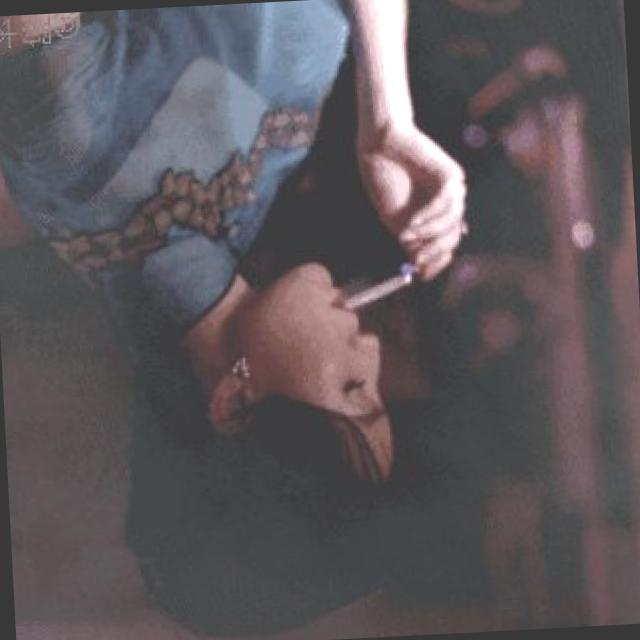cigarette: (337, 270, 413, 310)
